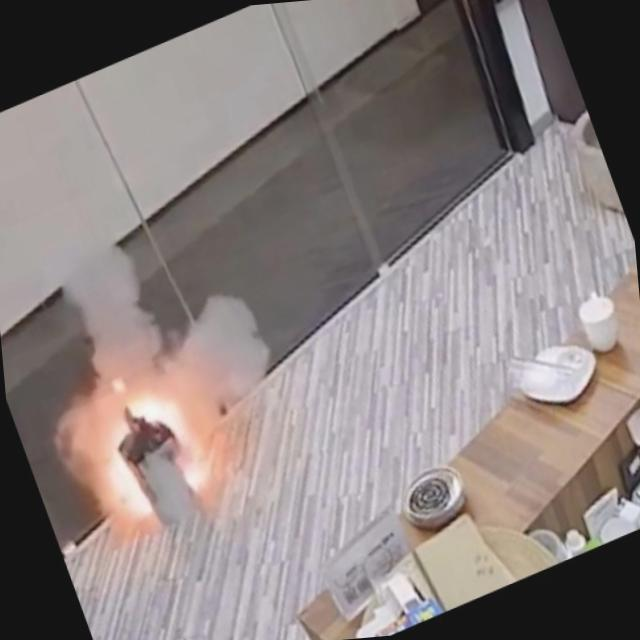fire: (75, 375, 220, 540)
smoke: (18, 220, 202, 414)
